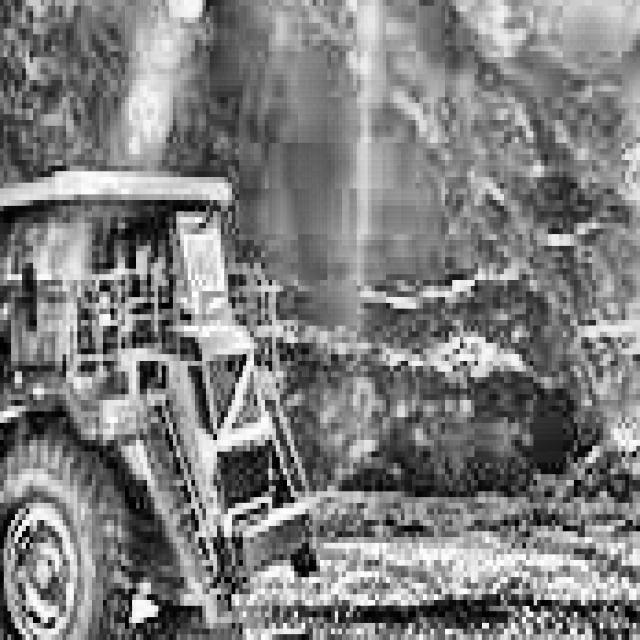dump_truck: (0, 143, 331, 640)
